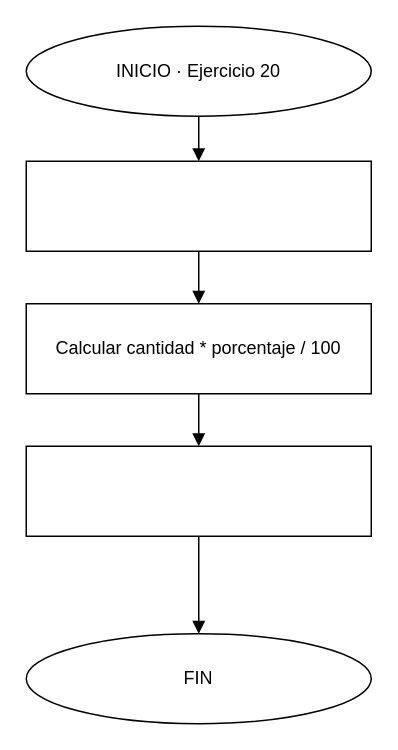
Image size: 398x750. Some labels were removed from this diagram. The box of each missing label's shape, as (x1, y1, x2, y2) in pixels:
Leer cantidad y porcentaje: (25, 160, 371, 251)
Mostrar resultado: (25, 445, 371, 536)
